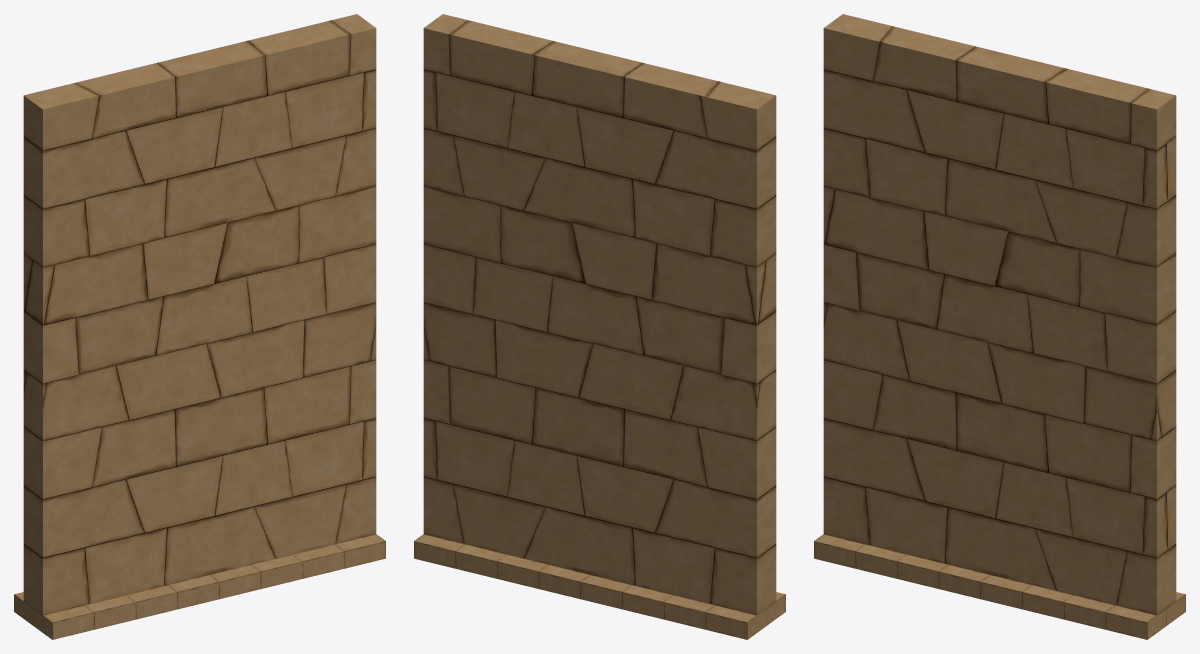
File: TatuterraTemple_Past_Wall4m.fbx
3 views of the same model, side by side, from view 1: azimuth 30°, elevation 25°; view 2: azimuth 150°, elevation 25°; view 3: azimuth 330°, elevation 25° (orthographic).
Visible parts, largest first — view 1: TatuterraTemple_Past_Wall4m; view 2: TatuterraTemple_Past_Wall4m; view 3: TatuterraTemple_Past_Wall4m.
Part boxes in pixels (bbox=[...]): TatuterraTemple_Past_Wall4m: bbox=[14, 14, 385, 639]; TatuterraTemple_Past_Wall4m: bbox=[414, 14, 785, 639]; TatuterraTemple_Past_Wall4m: bbox=[814, 14, 1185, 639].
Size of the model in its own units: 400 by 600 by 80.
